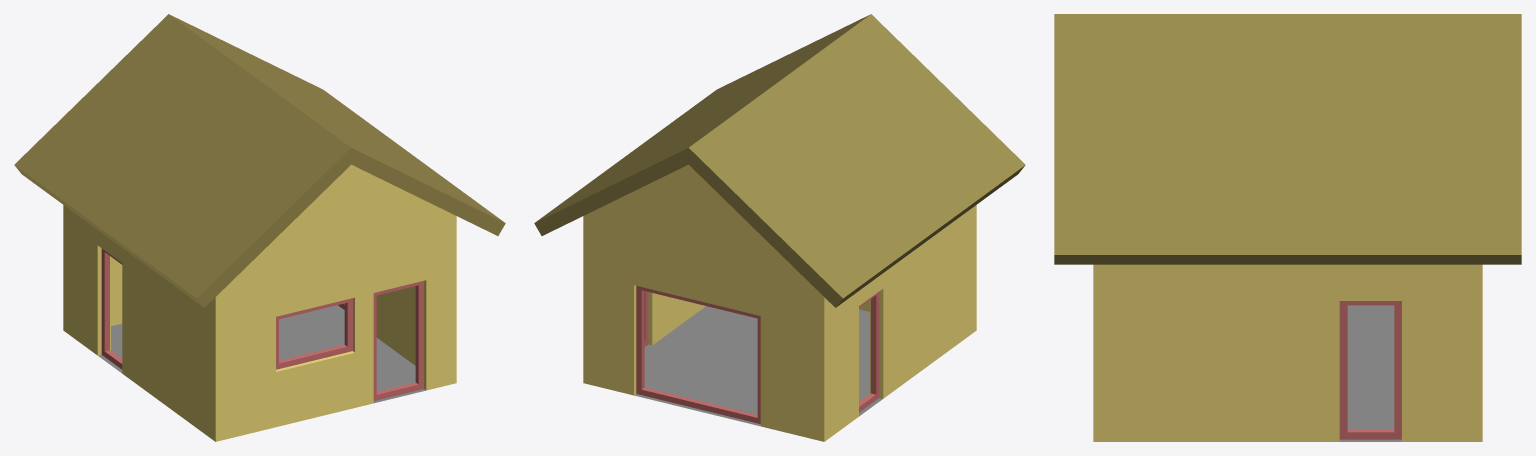
The model's file is result.glb.
3 renders of one model, left to right at view 1: azimuth 30°, elevation 25°; view 2: azimuth 150°, elevation 25°; view 3: azimuth 270°, elevation 25°, orthographic. The views are drawn at different scales.
Visible parts, largest first — view 1: 7475c920-6390-44ed-a40b-1d0421dd577b__undefined (×2), 384c2fd1-9d7d-4151-a375-124599dcb907__undefined, df821dda-3caf-420b-87a5-f6cb9c444cf6__Plane_6, 07bef038-2c6d-49e0-98ce-df73c0272c31__Box, 0b2c0538-0217-4afc-beda-960d6350b647__Box_3, dd04f4ff-a795-4bb1-99c3-19b64fc9920b__Box_12; view 2: 7475c920-6390-44ed-a40b-1d0421dd577b__undefined (×2), 384c2fd1-9d7d-4151-a375-124599dcb907__undefined, df821dda-3caf-420b-87a5-f6cb9c444cf6__Plane_6, ad97792b-7c5a-440a-ba3b-8073f508956e__Box_9, dd04f4ff-a795-4bb1-99c3-19b64fc9920b__Box_12; view 3: 7475c920-6390-44ed-a40b-1d0421dd577b__undefined, 384c2fd1-9d7d-4151-a375-124599dcb907__undefined, df821dda-3caf-420b-87a5-f6cb9c444cf6__Plane_6, 4ccea554-202d-436f-9afa-a8082ca924e8__Box_15.
Part boxes in pixels (<box>): 7475c920-6390-44ed-a40b-1d0421dd577b__undefined (×2): <box>14,14,505,307</box>; 384c2fd1-9d7d-4151-a375-124599dcb907__undefined: <box>63,164,456,441</box>; df821dda-3caf-420b-87a5-f6cb9c444cf6__Plane_6: <box>98,305,425,403</box>; 07bef038-2c6d-49e0-98ce-df73c0272c31__Box: <box>373,281,423,400</box>; 0b2c0538-0217-4afc-beda-960d6350b647__Box_3: <box>276,298,352,369</box>; dd04f4ff-a795-4bb1-99c3-19b64fc9920b__Box_12: <box>101,248,122,369</box>; 7475c920-6390-44ed-a40b-1d0421dd577b__undefined (×2): <box>534,14,1025,307</box>; 384c2fd1-9d7d-4151-a375-124599dcb907__undefined: <box>583,164,976,441</box>; df821dda-3caf-420b-87a5-f6cb9c444cf6__Plane_6: <box>634,306,882,426</box>; ad97792b-7c5a-440a-ba3b-8073f508956e__Box_9: <box>636,286,760,423</box>; dd04f4ff-a795-4bb1-99c3-19b64fc9920b__Box_12: <box>859,292,879,412</box>; 7475c920-6390-44ed-a40b-1d0421dd577b__undefined: <box>1054,14,1521,264</box>; 384c2fd1-9d7d-4151-a375-124599dcb907__undefined: <box>1093,264,1482,441</box>; df821dda-3caf-420b-87a5-f6cb9c444cf6__Plane_6: <box>1339,305,1401,441</box>; 4ccea554-202d-436f-9afa-a8082ca924e8__Box_15: <box>1339,301,1401,439</box>.
Size of the model in its own units: 586 by 500 by 600.
